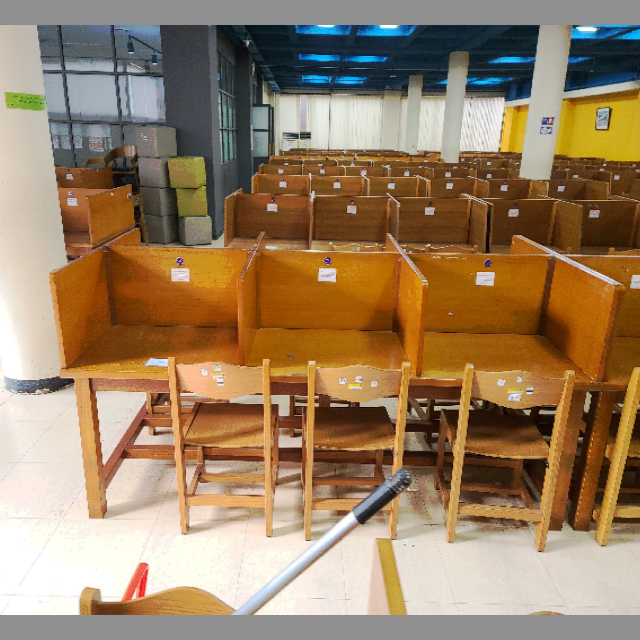empty: (428, 245, 608, 473), (57, 248, 242, 440), (248, 250, 423, 447)
